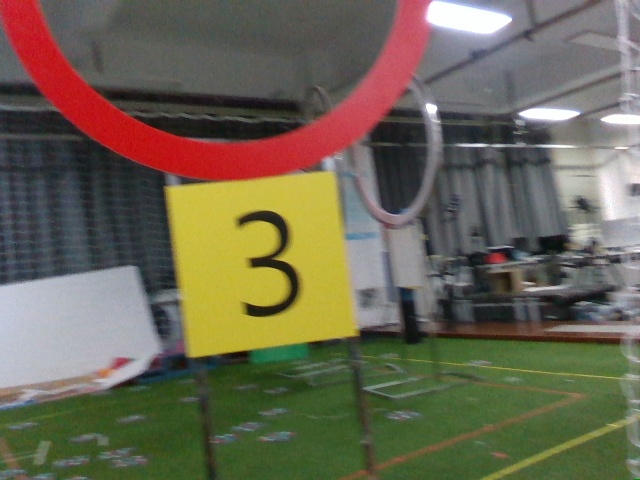target: (185, 183, 342, 344)
